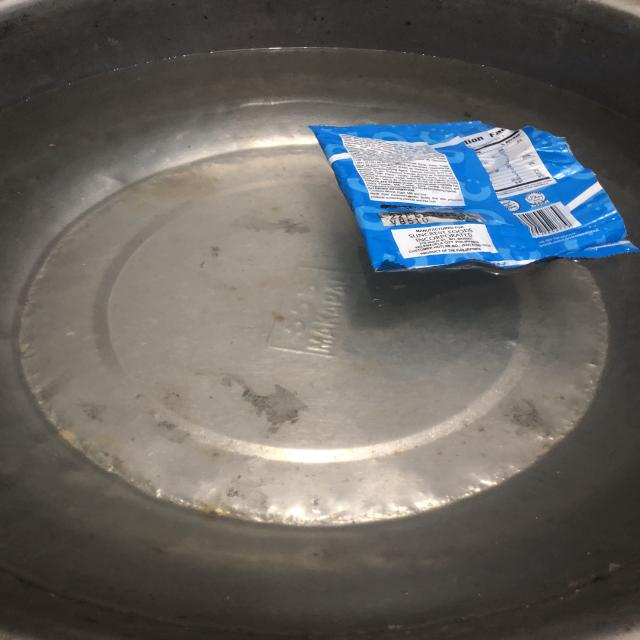Plastic Wrapper: (311, 121, 638, 271)
